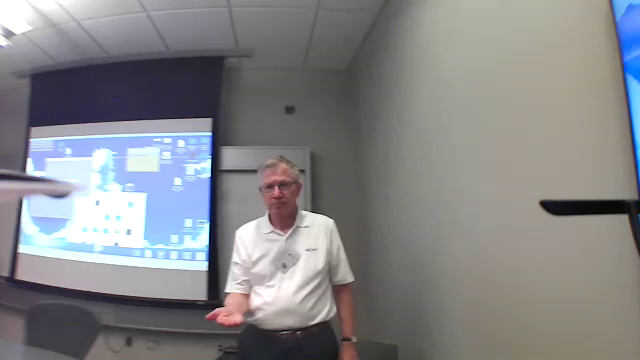land: (199, 301, 252, 328)
